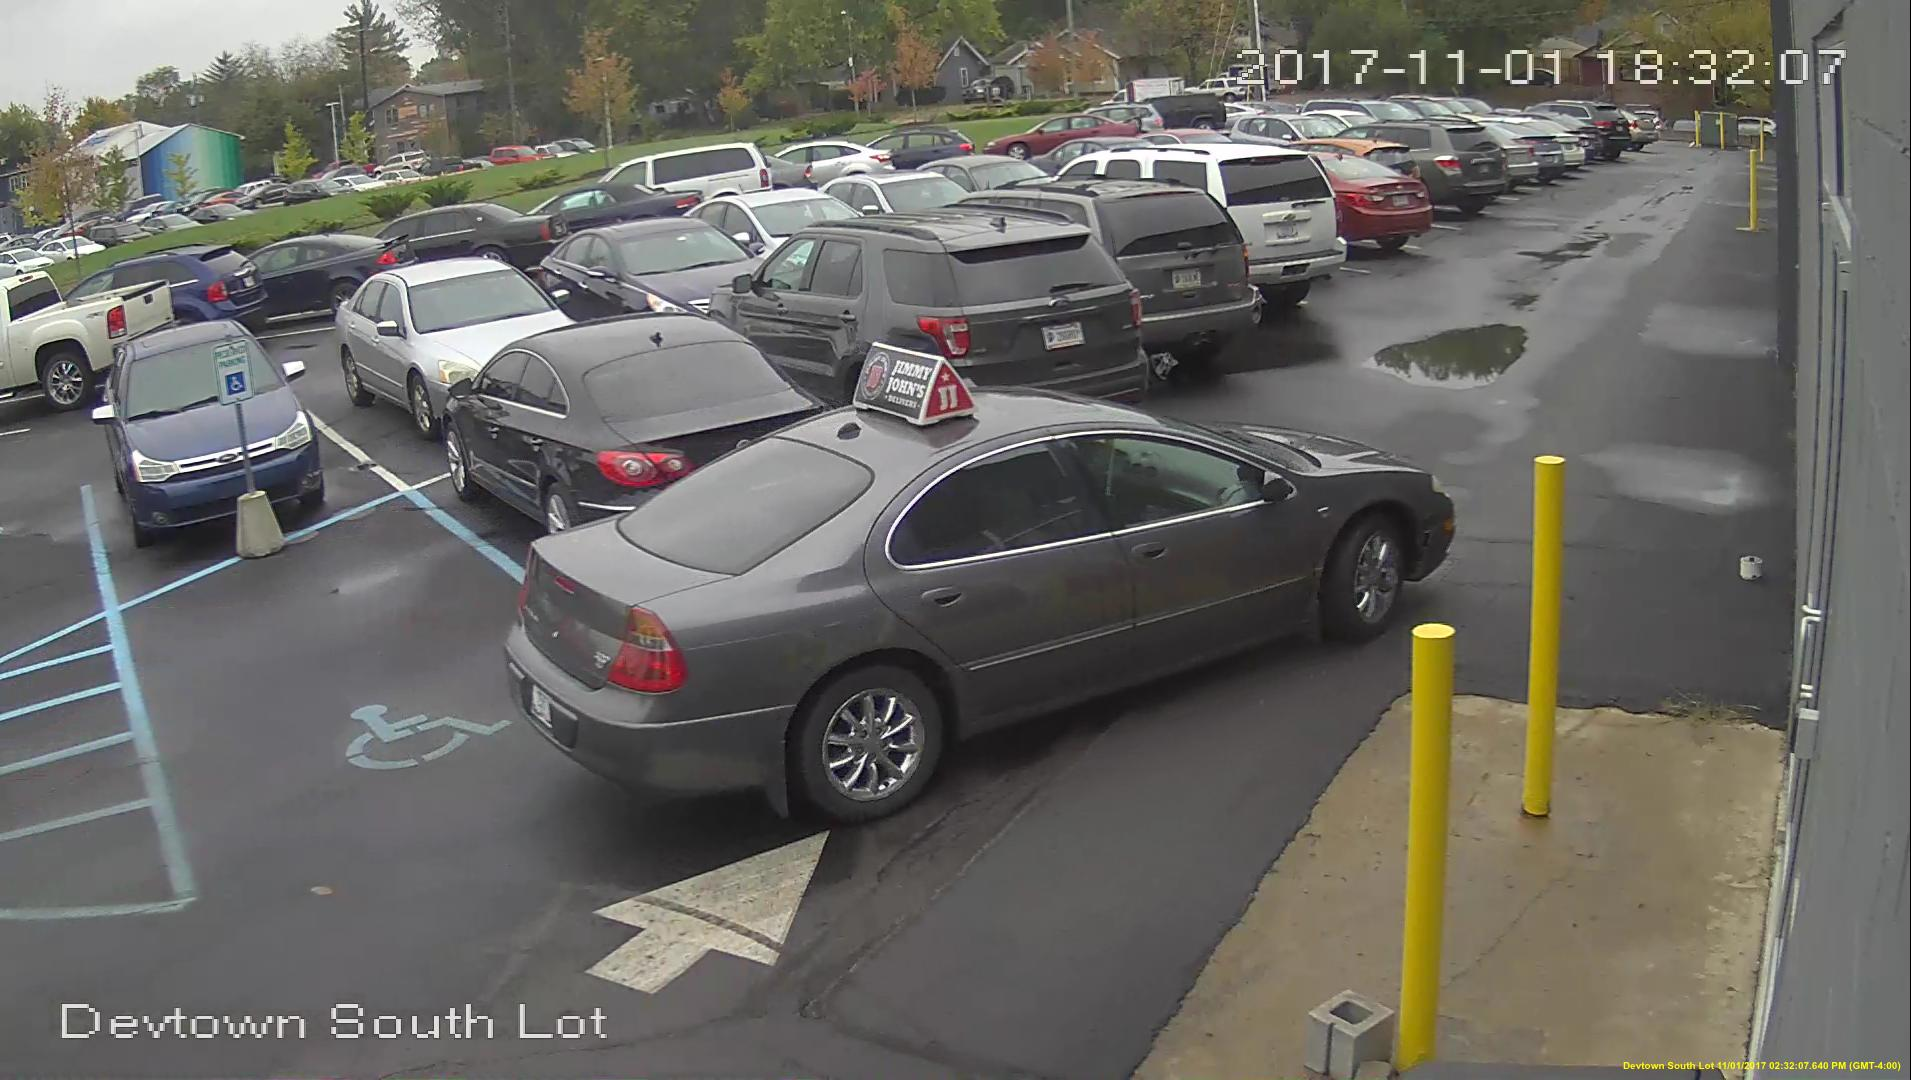jimmy_johns: (848, 340, 980, 424)
